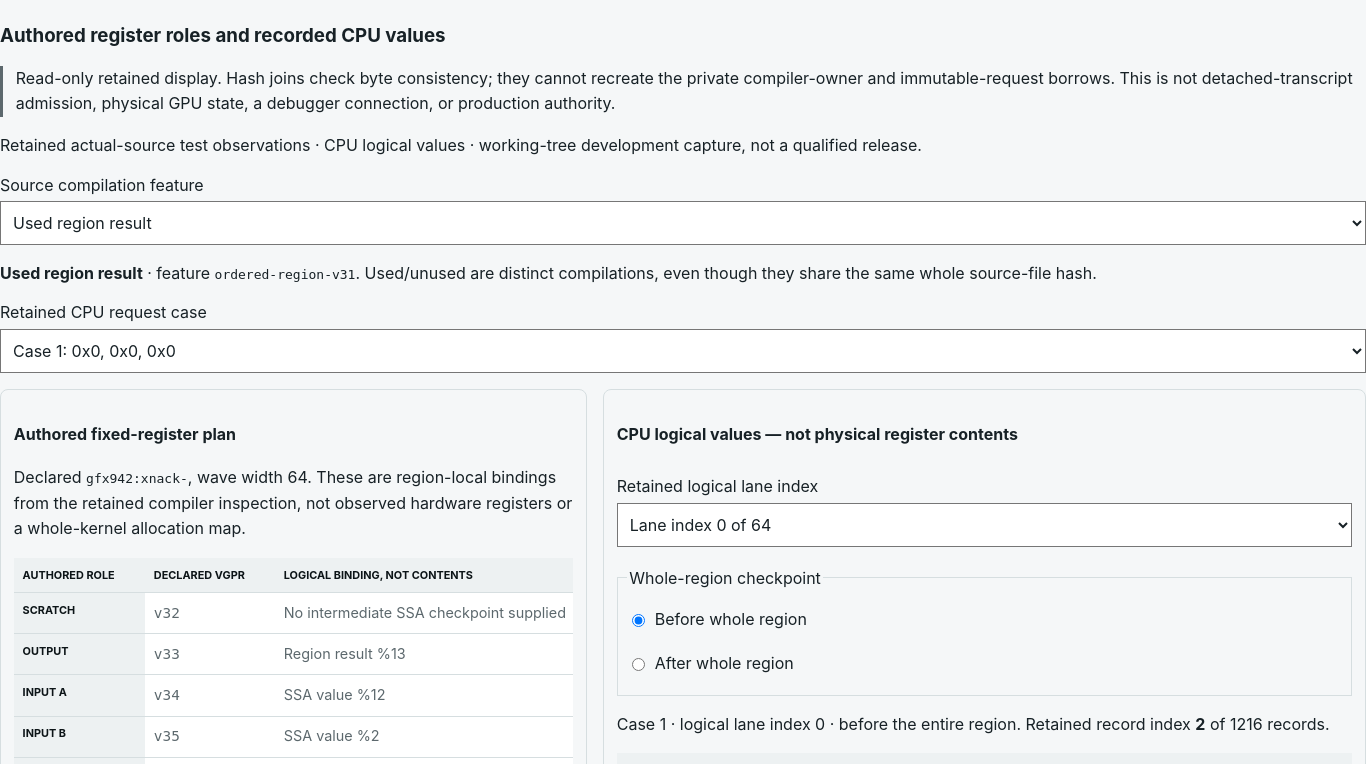
Scenario: actual r5 authored-role and logical-value view › browses only real cases/lanes and resets phase, lane and request selection across compilations
Select "Case 6: 0x13, 0x17, 0x2a" in the dropdown labelled "Retained CPU request case" at (683, 351), box [0,329,1365,373]
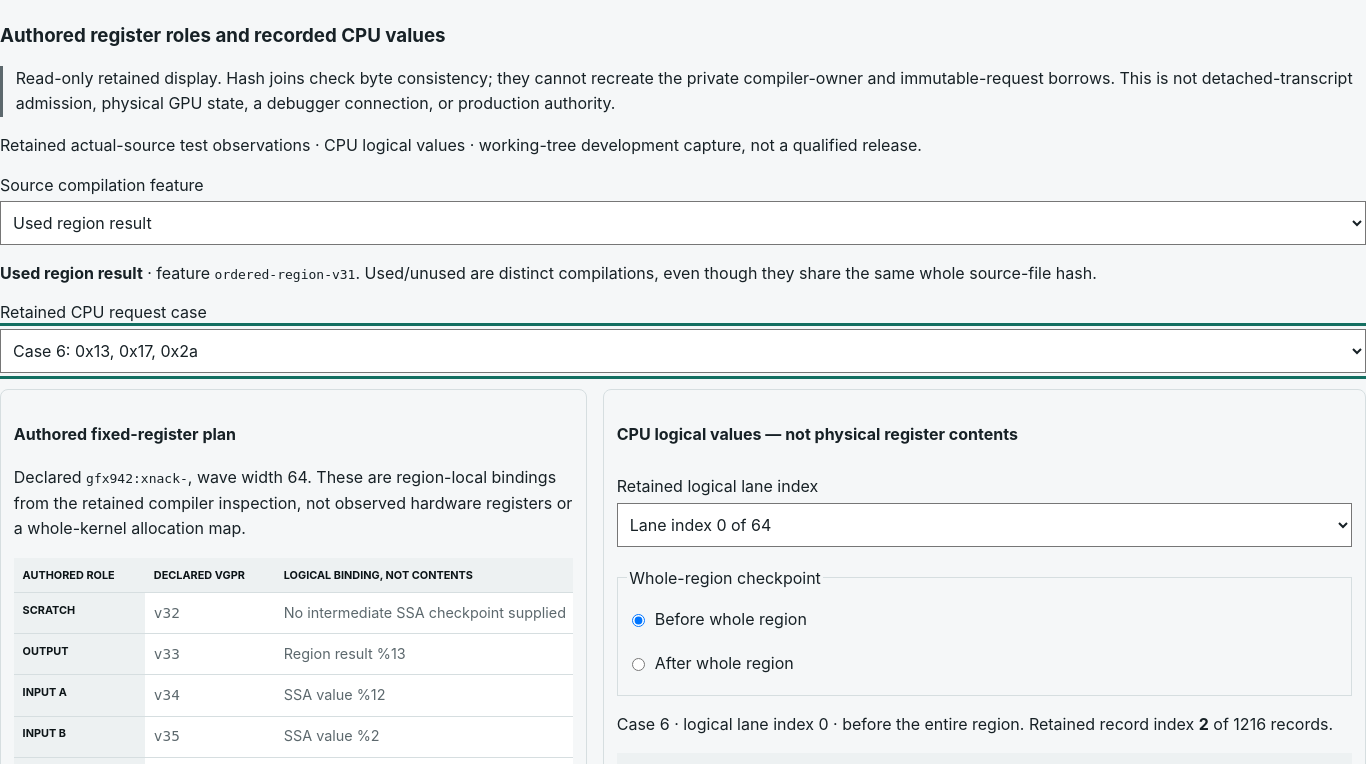
Select "Lane index 63 of 64" in the dropdown labelled "Retained logical lane index" at (985, 525), box [617,503,1352,547]
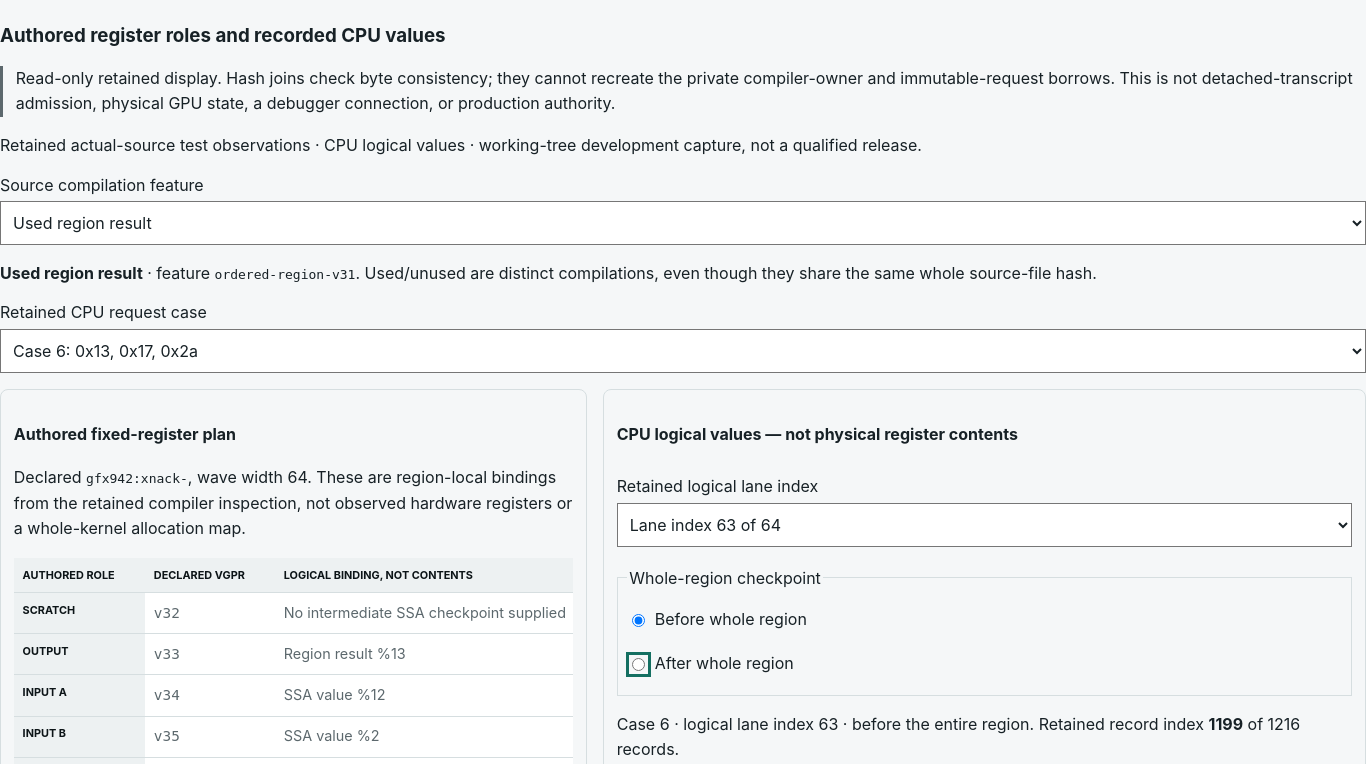
Type keys " "
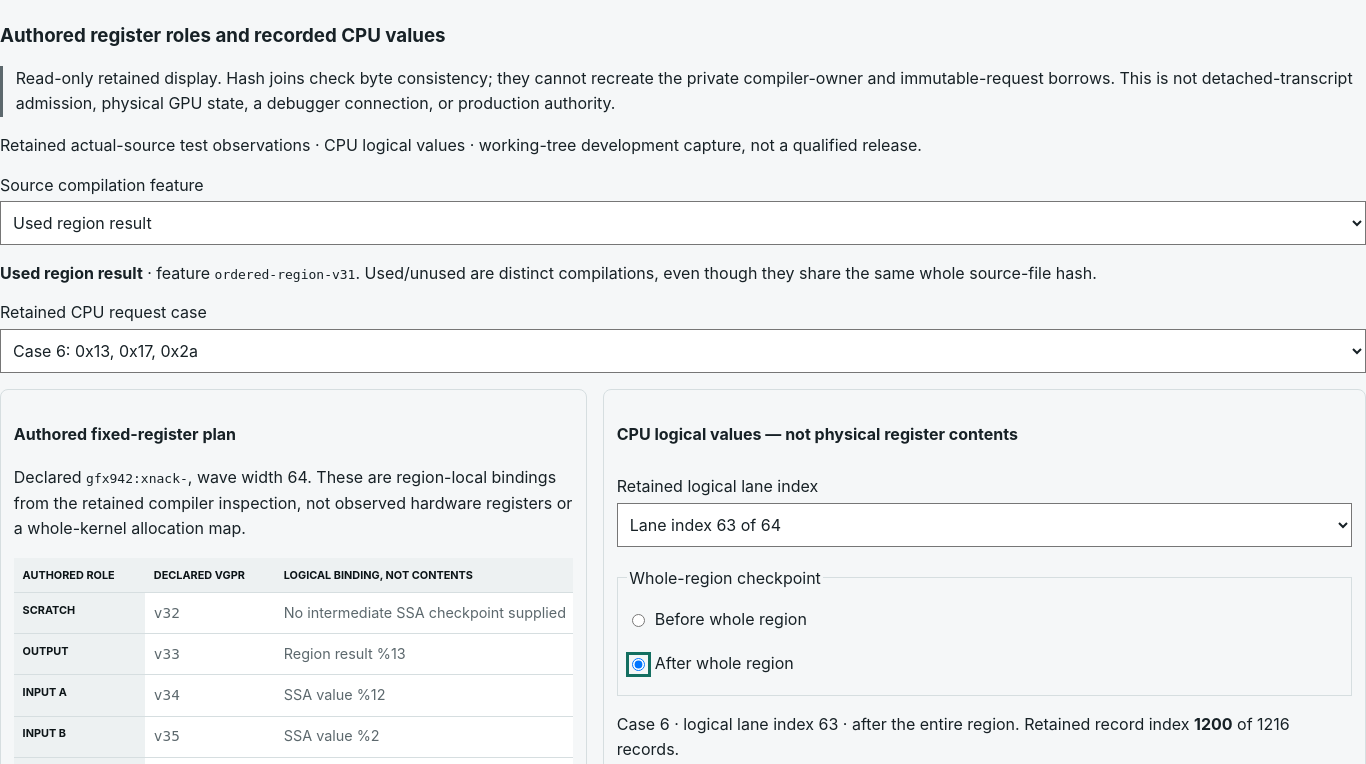
Select "Lane index 1 of 64" in the dropdown labelled "Retained logical lane index" at (985, 525), box [617,503,1352,547]
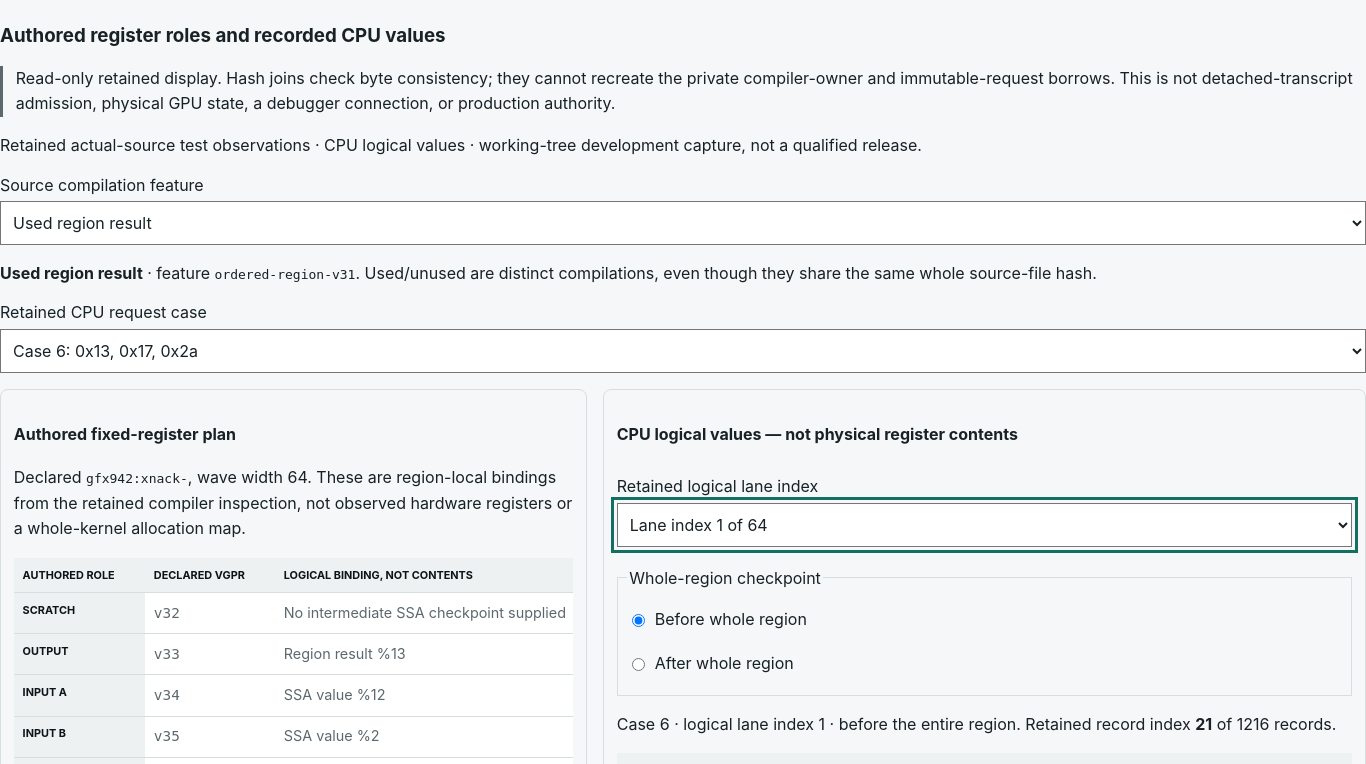
Check: the radio button labelled "Before whole region" is checked, box [632,614,645,627]
Select "Unused region result" in the dropdown labelled "Source compilation feature" at (683, 223), box [0,201,1365,245]
(page scrolled)
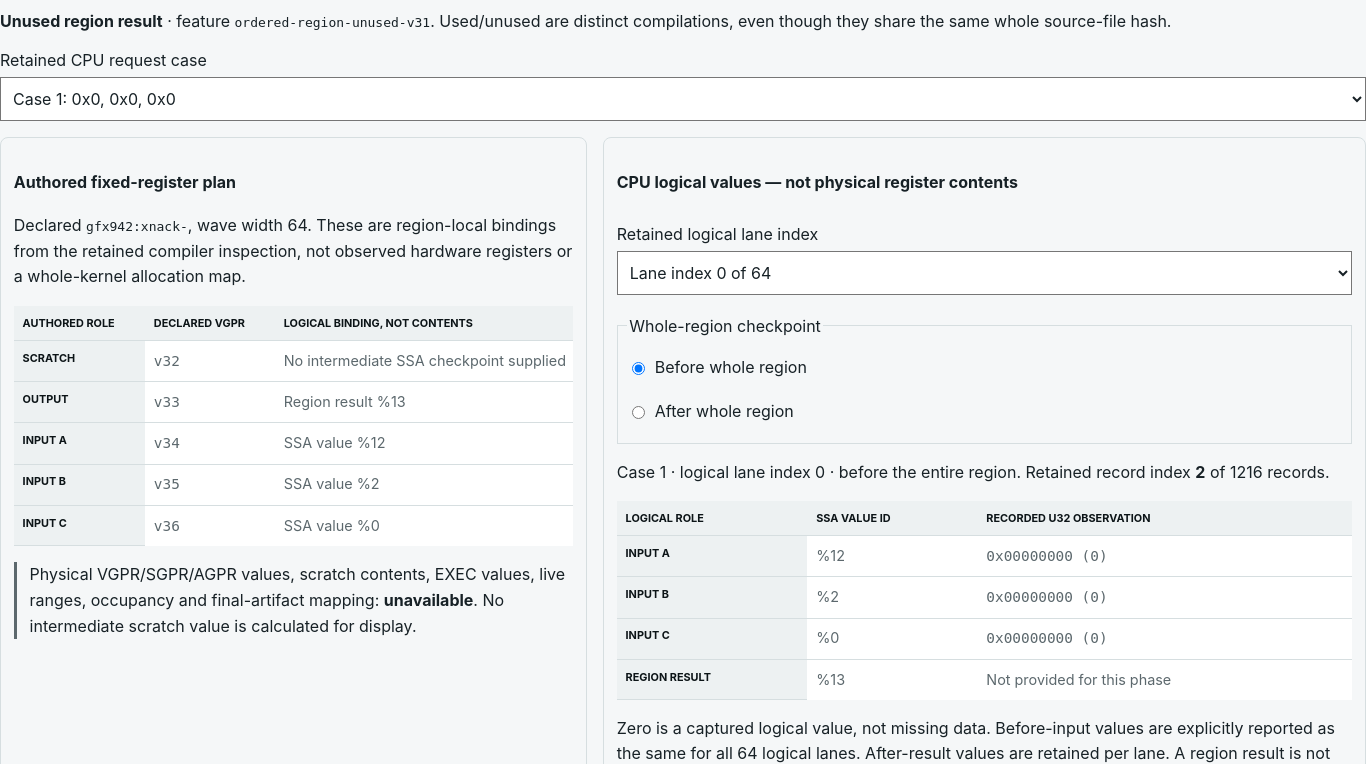
Check: the dropdown labelled "Retained CPU request case" shows "Case 1: 0x0, 0x0, 0x0", box [0,77,1365,121]
Check: the dropdown labelled "Retained logical lane index" shows "Lane index 0 of 64", box [617,251,1352,295]
Check: the radio button labelled "Before whole region" is checked, box [632,362,645,375]
